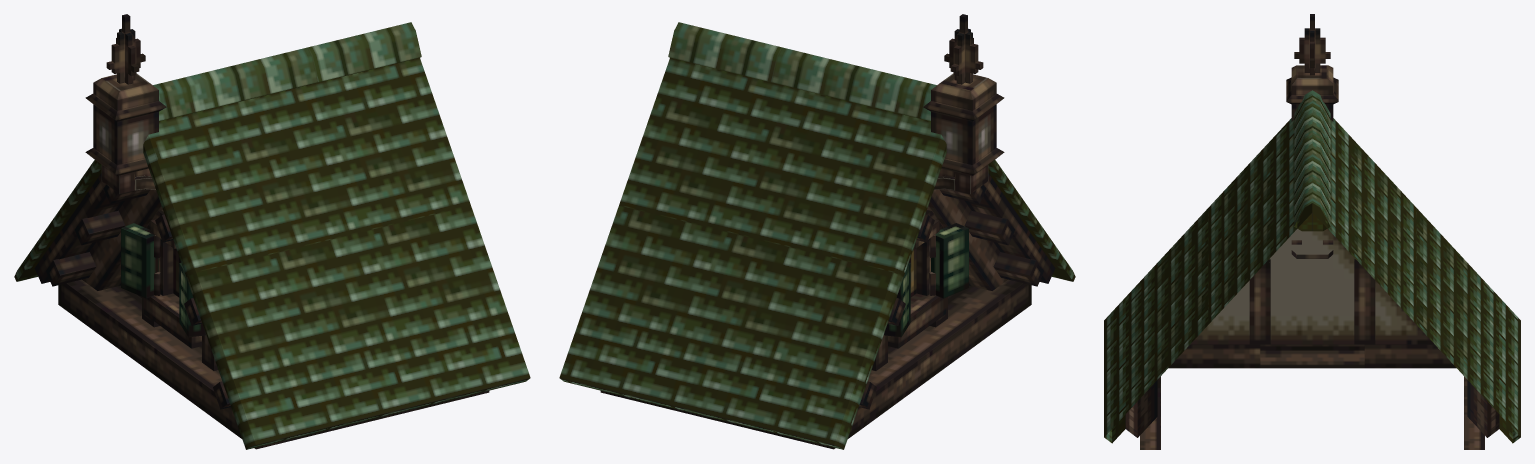
Rendered from EnvBdgMD_City_C_Outdoor_Dormer_B_Open.FBX.
3 renders of one model, left to right at view 1: azimuth 30°, elevation 25°; view 2: azimuth 150°, elevation 25°; view 3: azimuth 270°, elevation 25°, orthographic. The views are drawn at different scales.
Visible parts, largest first — view 1: EnvBdgMD_City_C_Outdoor_Dormer_B_Open; view 2: EnvBdgMD_City_C_Outdoor_Dormer_B_Open; view 3: EnvBdgMD_City_C_Outdoor_Dormer_B_Open.
Part boxes in pixels (box(x1,y1,x2,y2)): EnvBdgMD_City_C_Outdoor_Dormer_B_Open: box(14, 14, 530, 449); EnvBdgMD_City_C_Outdoor_Dormer_B_Open: box(559, 14, 1075, 449); EnvBdgMD_City_C_Outdoor_Dormer_B_Open: box(1104, 14, 1520, 449).
Bounding box in the file's own units: 300 × 340 × 399.
